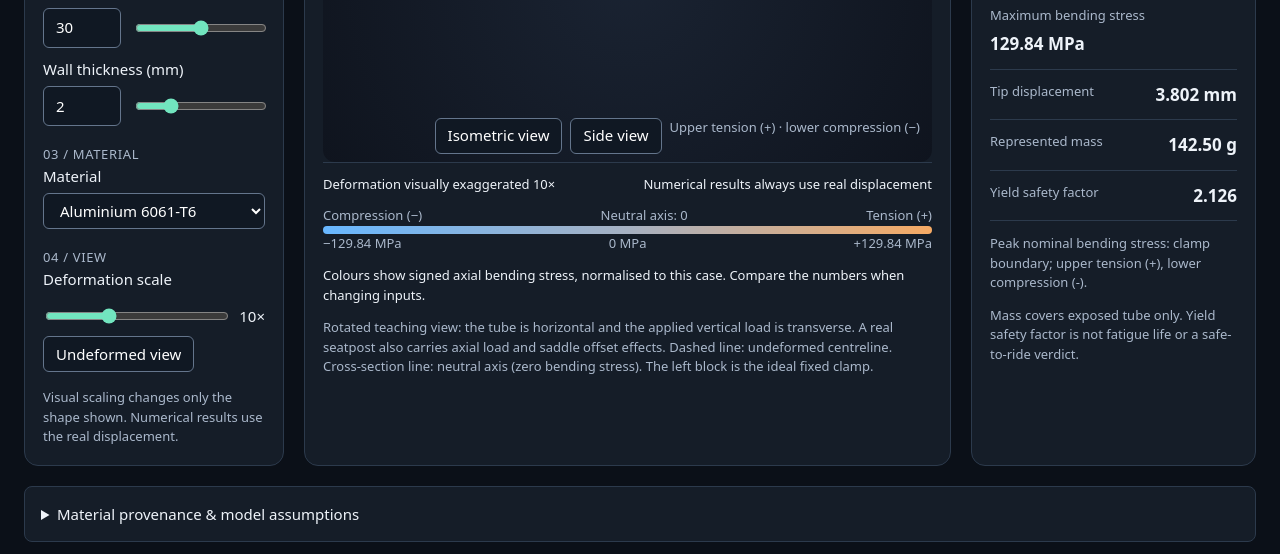
Scenario: learning application integration › keeps finite analytical results available when stress exceeds the graphics numeric range
(page scrolled)
Click the button "Undeformed view": {"x": 119, "y": 354} x1=43 y1=336 x2=194 y2=372
(page scrolled)
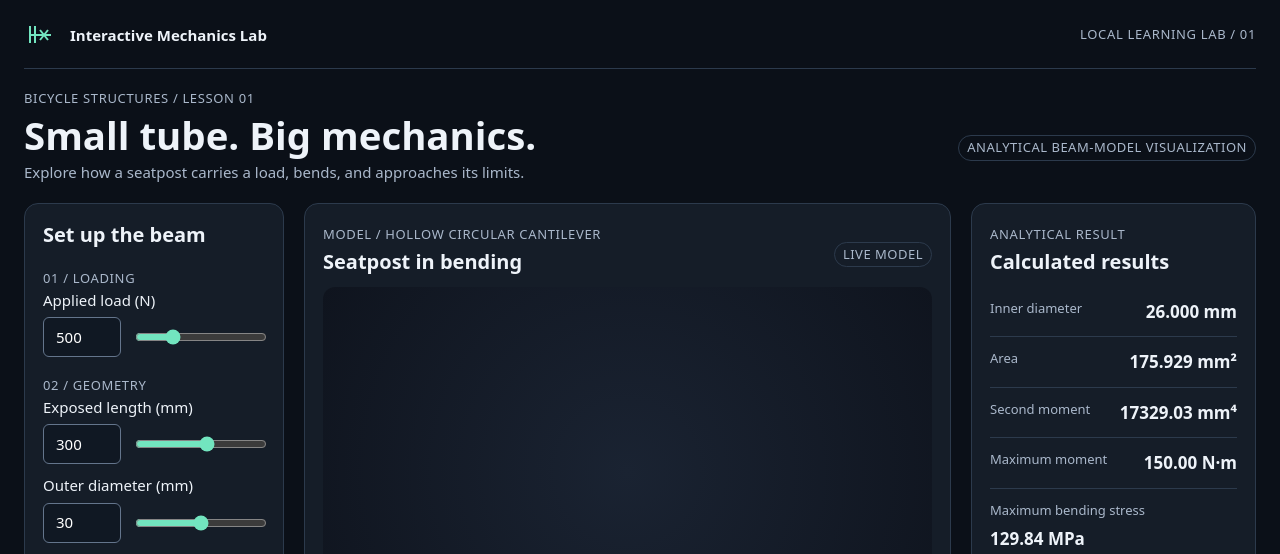
Replace the text in the number field labelled "Applied load (N)" with "1e35": {"x": 82, "y": 337} x1=43 y1=317 x2=121 y2=357
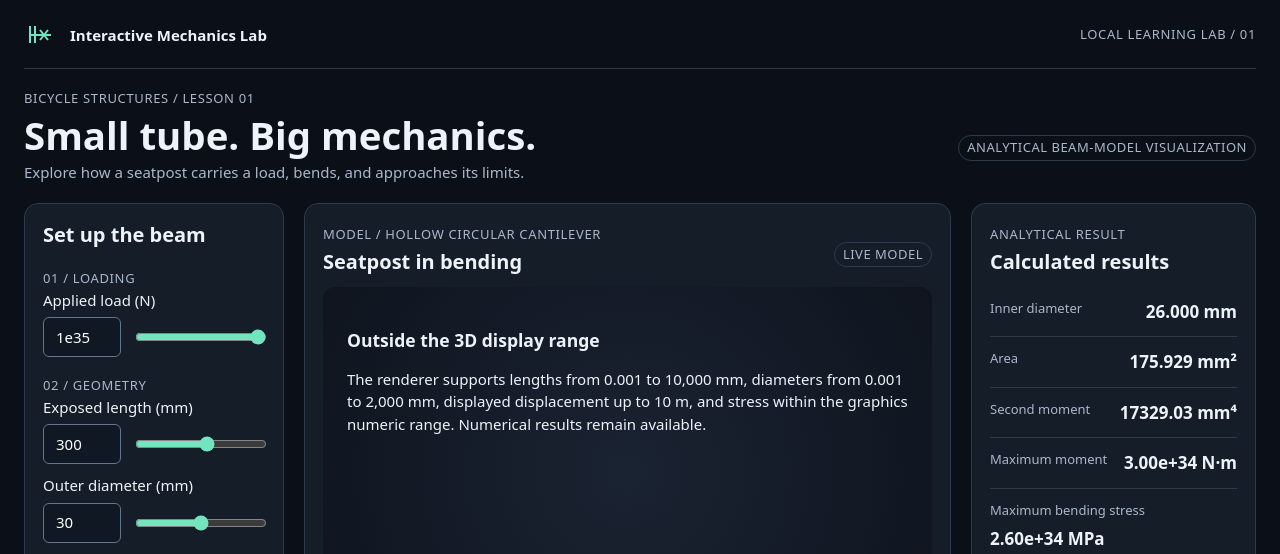
Check: the text "2.60e+34 MPa" is shown, box x1=990 y1=526 x2=1105 y2=552
Check: the heading "Outside the 3D display range" is shown, box x1=347 y1=328 x2=600 y2=352
